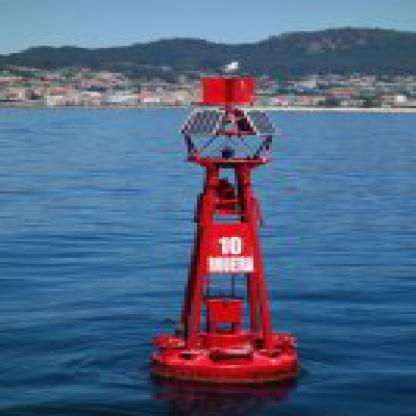buoy: (138, 54, 312, 387)
